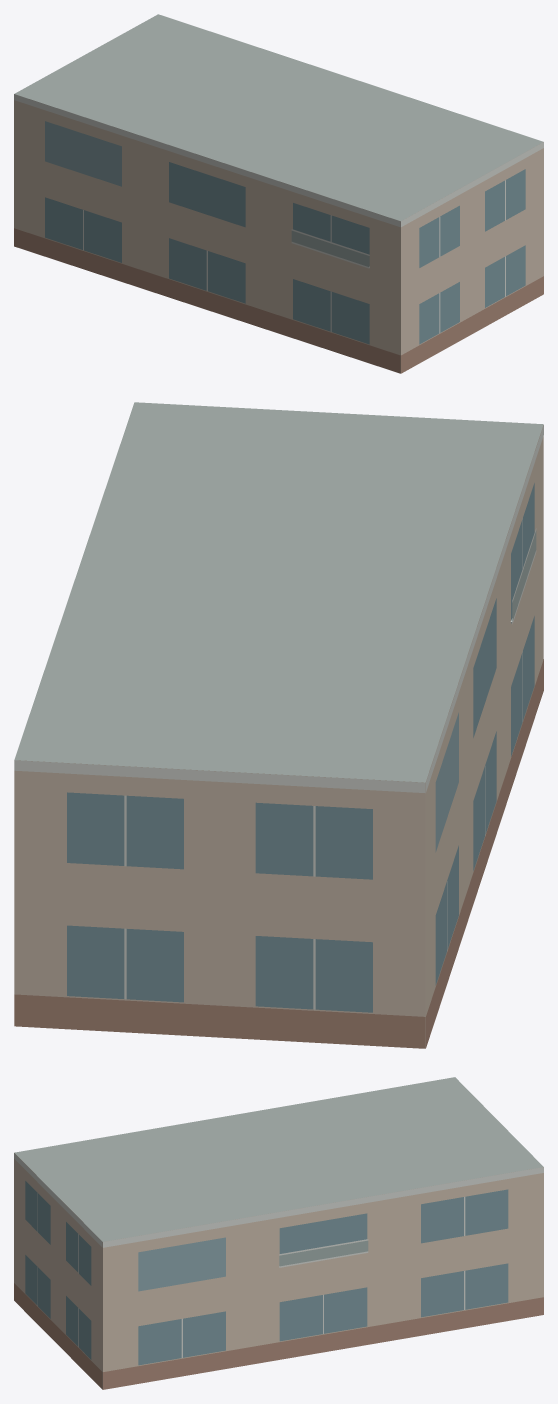
Rendered from survey-upis-32513298.glb.
The picture shows the model from 3 angles, top to bottom: view 1: azimuth 30°, elevation 25°; view 2: azimuth 150°, elevation 25°; view 3: azimuth 270°, elevation 25°; orthographic projection. The views are drawn at different scales.
Parts seen in each view (by area): view 1: survey-upis-32513298.tmp; view 2: survey-upis-32513298.tmp; view 3: survey-upis-32513298.tmp.
Boxes of the visible parts, x1,y1,x2,y2 form: survey-upis-32513298.tmp: [14, 14, 543, 373]; survey-upis-32513298.tmp: [14, 402, 543, 1048]; survey-upis-32513298.tmp: [14, 1077, 543, 1389].
Size of the model in its own units: 14.6 by 6.1 by 19.81.
